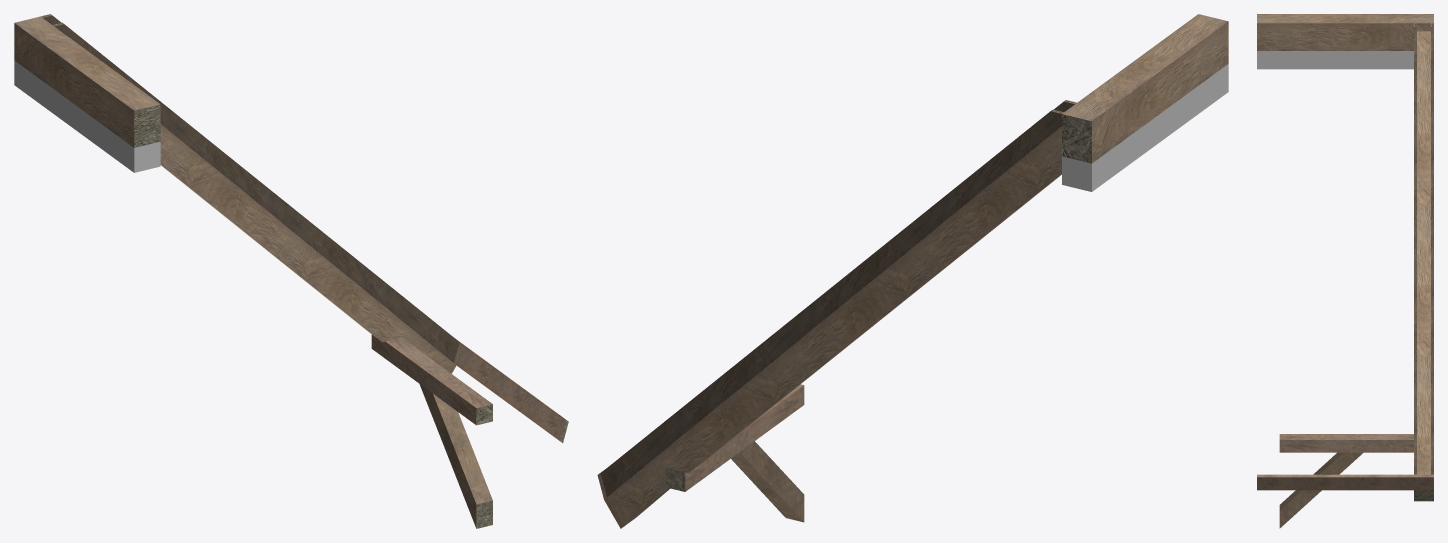
Rendered from RafterCapOverhangA.fbx.
The picture shows the model from 3 angles, left to right: view 1: azimuth 30°, elevation 25°; view 2: azimuth 150°, elevation 25°; view 3: azimuth 270°, elevation 25°; orthographic projection. The views are drawn at different scales.
Visible parts, largest first — view 1: RafterCapOverhangA; view 2: RafterCapOverhangA; view 3: RafterCapOverhangA.
Part boxes in pixels (box(x1,y1,x2,y2)): RafterCapOverhangA: box(14, 14, 568, 528); RafterCapOverhangA: box(597, 14, 1228, 528); RafterCapOverhangA: box(1257, 14, 1433, 528).
Bounding box in the file's own units: 495 × 562 × 237.
